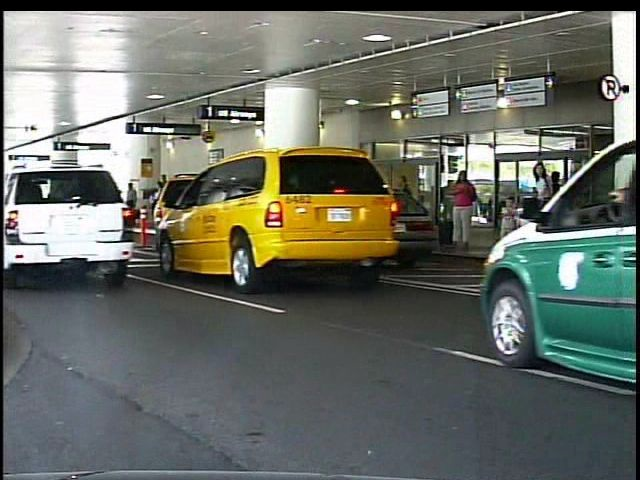person: (534, 161, 561, 265), (450, 167, 479, 253), (390, 172, 418, 238), (549, 170, 569, 241), (505, 197, 525, 253), (128, 180, 143, 231)
